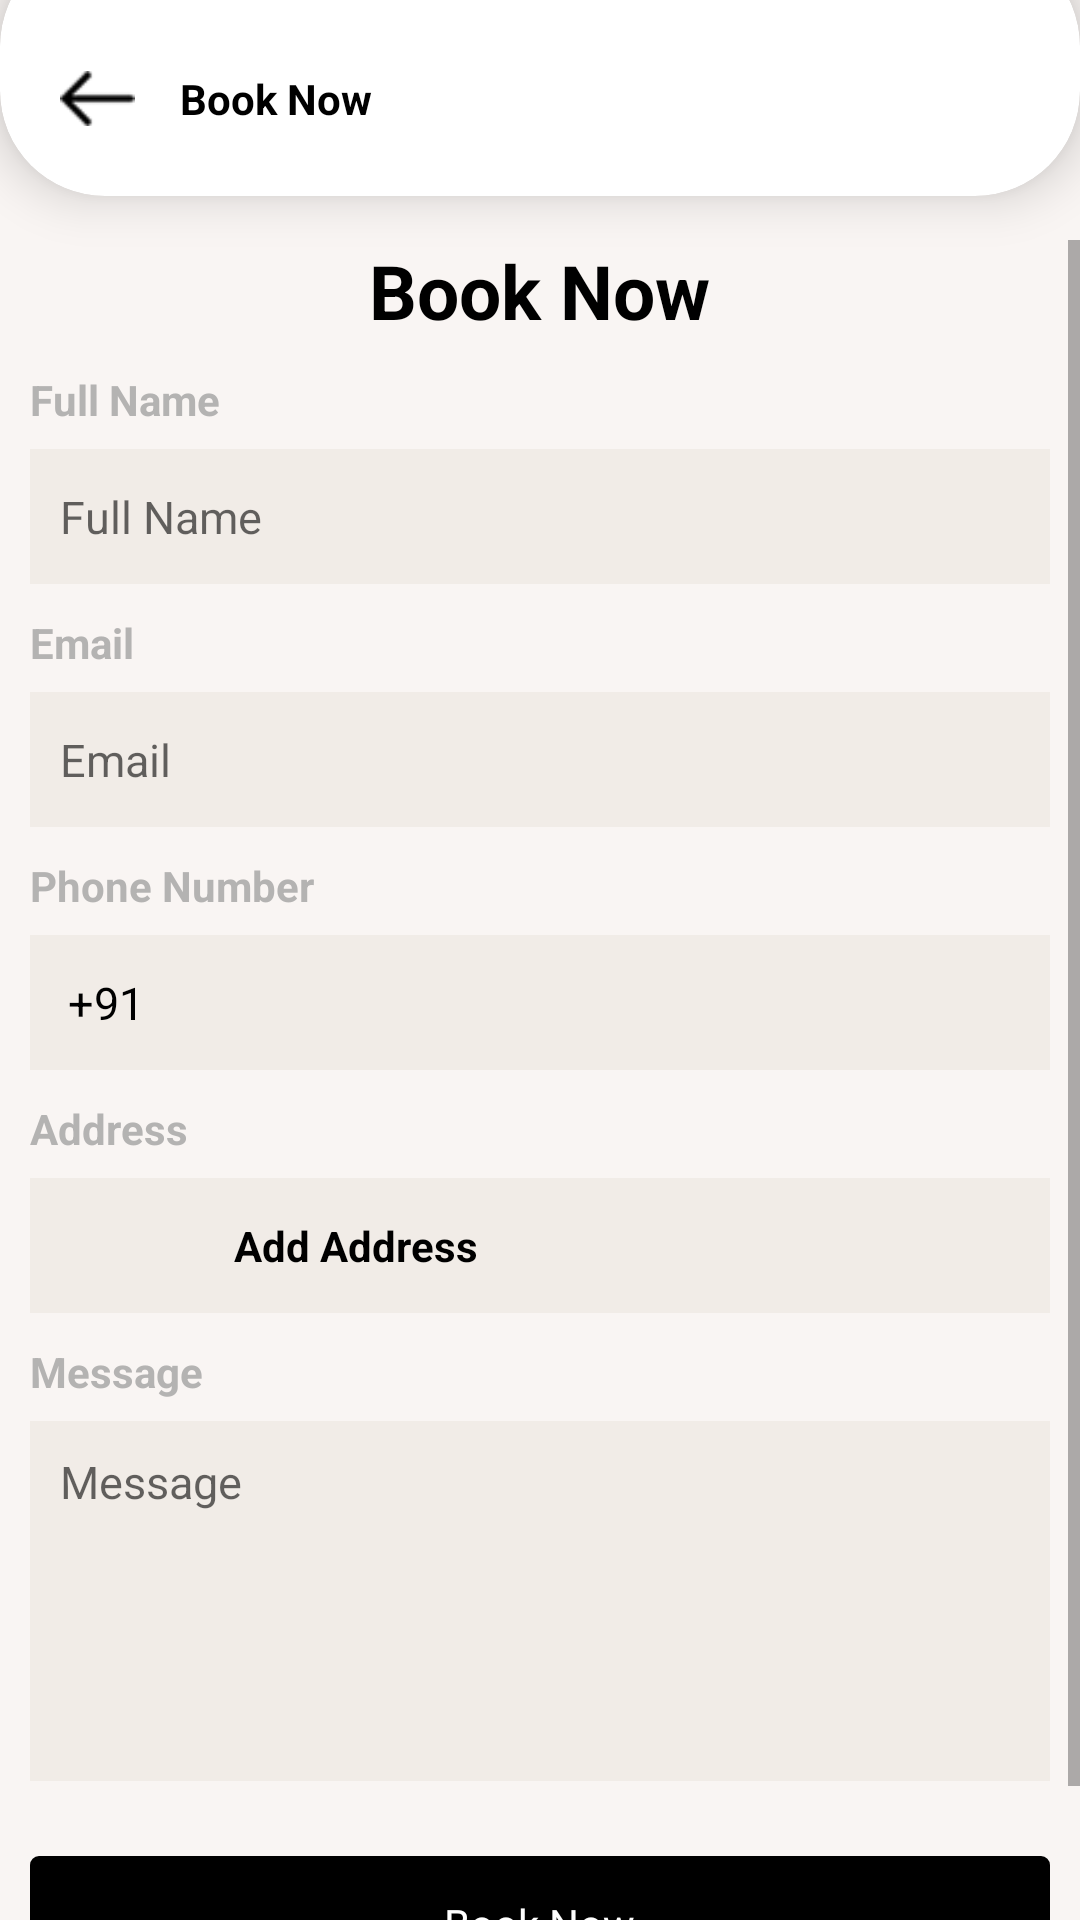

Named icons in this screenshot (1080*1920) and their bounding boxes, detection(x1, y1, x2, y2):
back: detection(60, 71, 135, 126)
